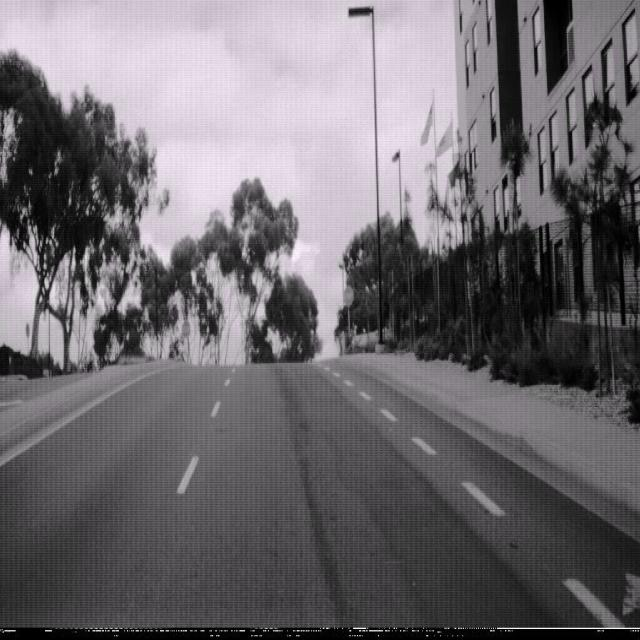stop: (343, 284, 353, 306), (181, 320, 190, 338)
